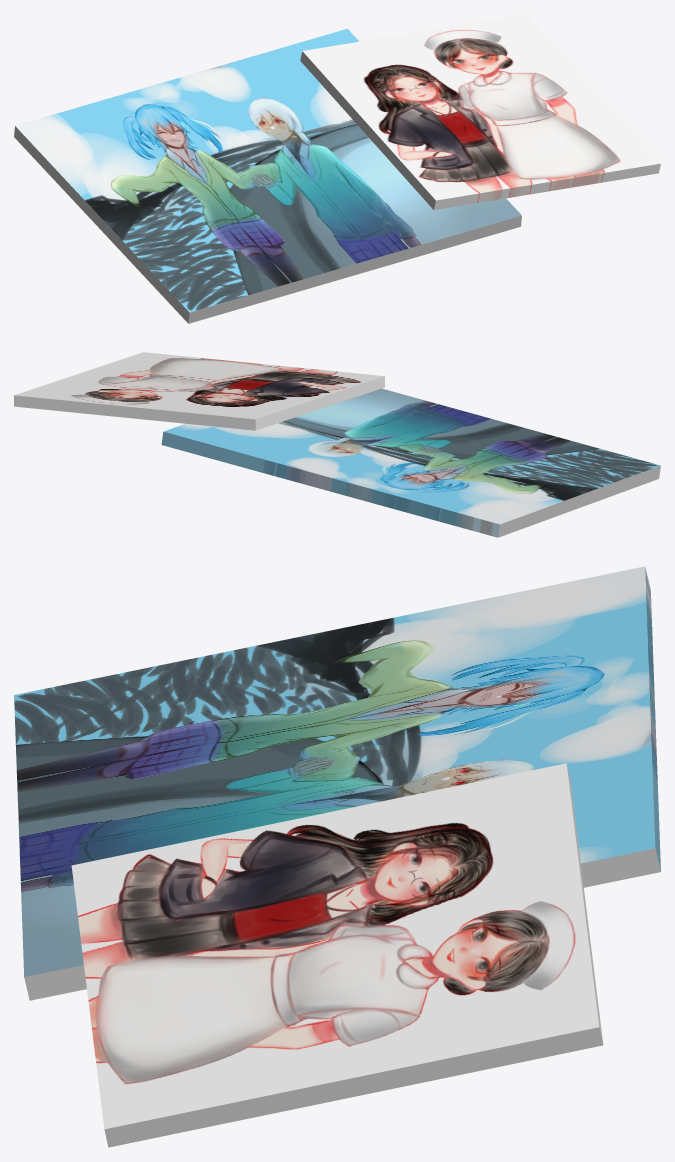
File: art1.glb
The picture shows the model from 3 angles, top to bottom: view 1: azimuth 30°, elevation 25°; view 2: azimuth 150°, elevation 25°; view 3: azimuth 270°, elevation 25°; orthographic projection. The views are drawn at different scales.
Parts seen in each view (by area): view 1: Plane.006, Plane.004; view 2: Plane.006, Plane.004; view 3: Plane.004, Plane.006.
Boxes of the visible parts, x1,y1,x2,y2 form: Plane.006: (14,28,521,323); Plane.004: (300,14,660,210); Plane.006: (161,388,660,537); Plane.004: (14,352,384,430); Plane.004: (71,763,603,1147); Plane.006: (14,566,660,1000).
Size of the model in its own units: 0.6182 by 0.1212 by 0.3675.
4 materials, 2 textured.
